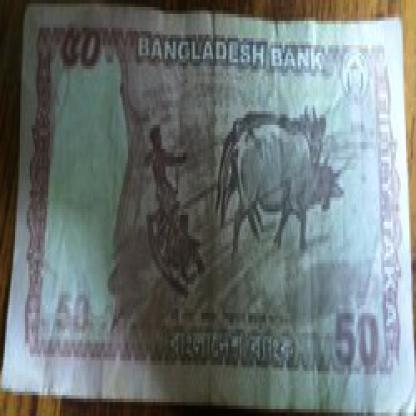Fifty taka: (326, 298, 396, 395), (63, 14, 108, 83)
